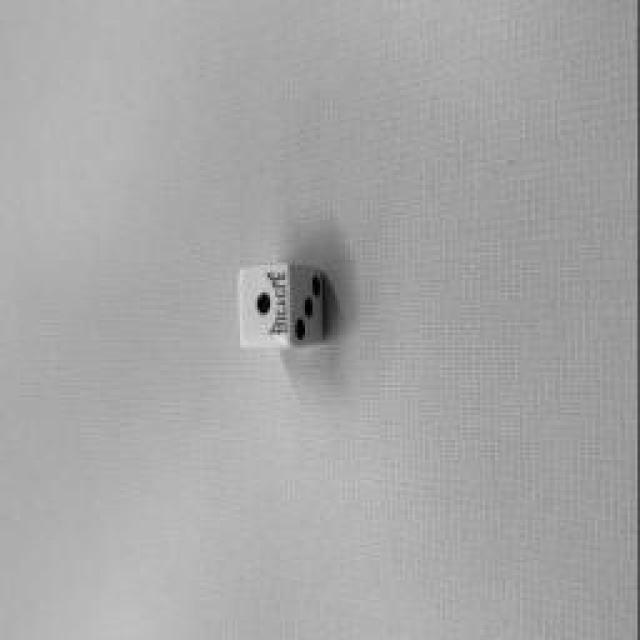dice_1: (239, 265, 291, 347)
